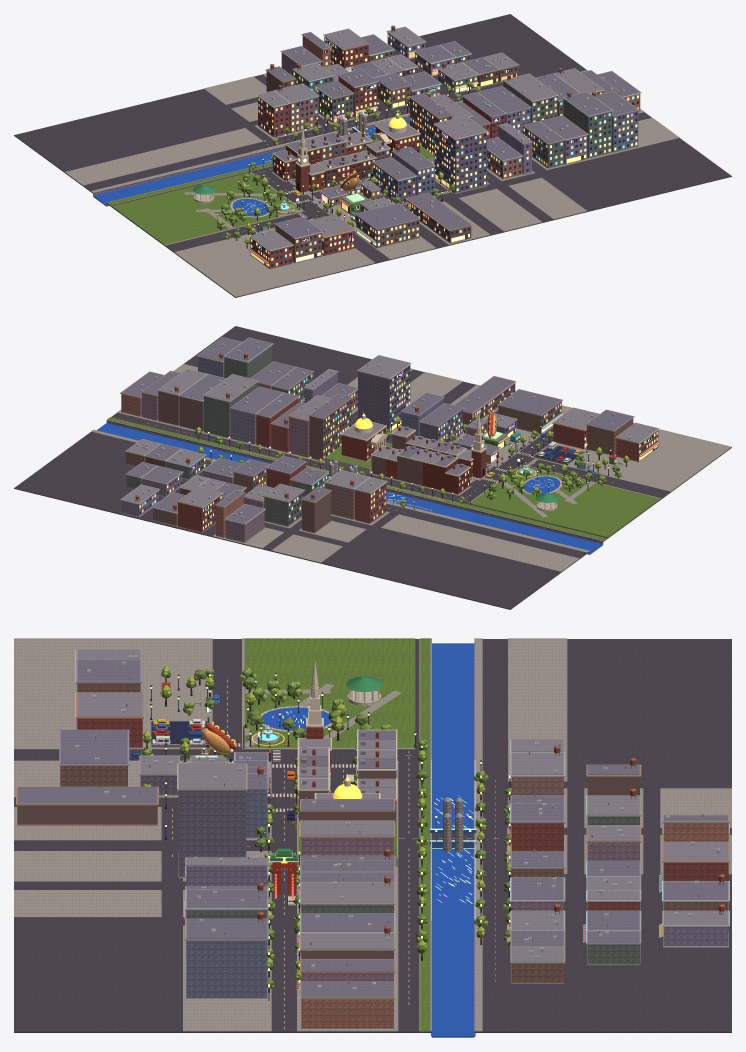
Rendered from corner.glb.
The picture shows the model from 3 angles, top to bottom: view 1: azimuth 30°, elevation 25°; view 2: azimuth 150°, elevation 25°; view 3: azimuth 270°, elevation 25°; orthographic projection. The views are drawn at different scales.
Parts seen in each view (by area): view 1: corner-hotdog-v3; view 2: corner-hotdog-v3; view 3: corner-hotdog-v3.
Part boxes in pixels (box(x1,y1,x2,y2)): corner-hotdog-v3: box(14, 14, 731, 297); corner-hotdog-v3: box(14, 326, 731, 609); corner-hotdog-v3: box(14, 638, 731, 1037).
Size of the model in its own units: 220 by 29.7 by 170.
Materials: 136 (65 with a texture image).
